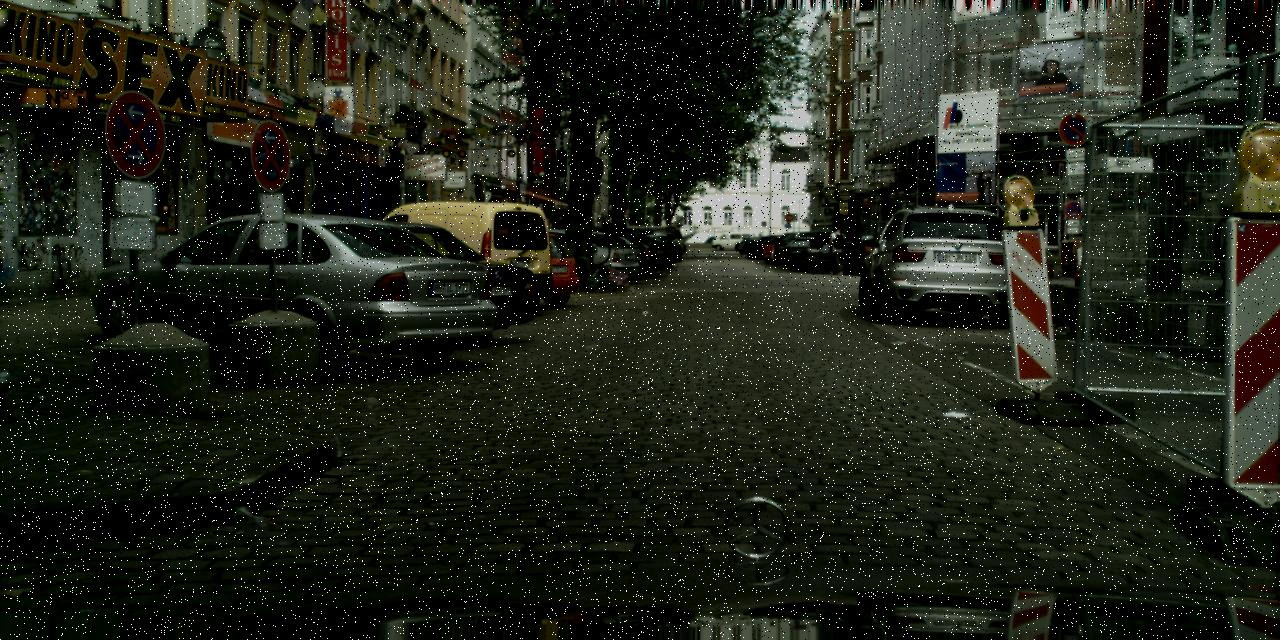ped: (850, 224, 870, 274), (826, 226, 846, 274)
